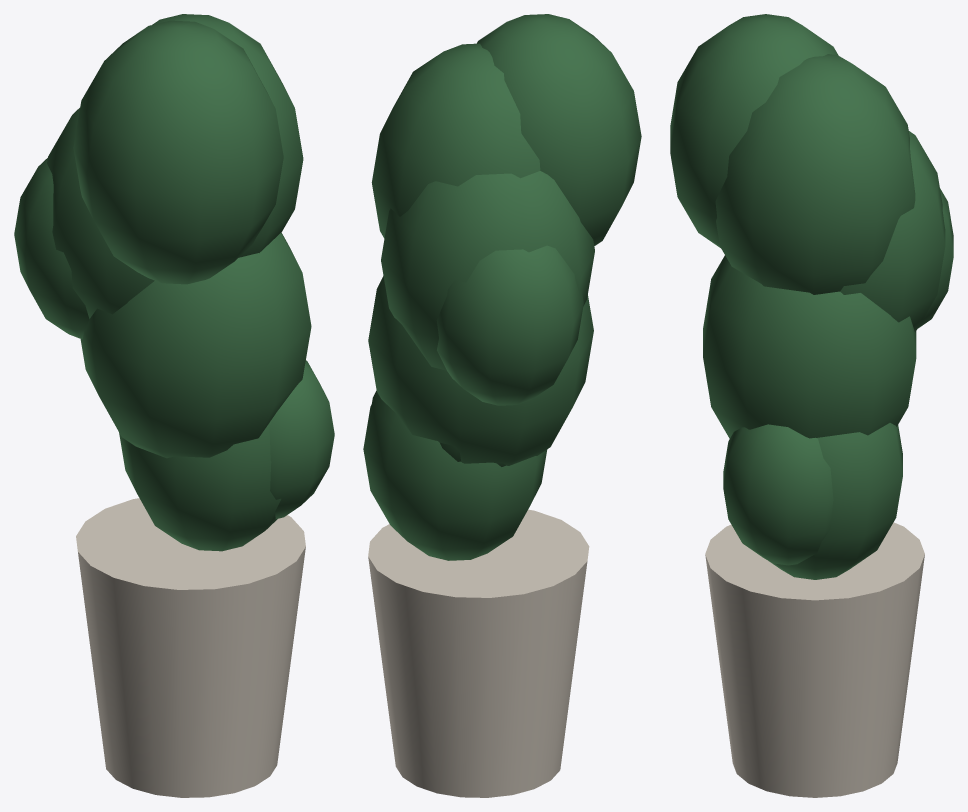
Rendered from Plant_4.glb.
The picture shows the model from 3 angles, left to right: view 1: azimuth 30°, elevation 25°; view 2: azimuth 150°, elevation 25°; view 3: azimuth 270°, elevation 25°; orthographic projection. The views are drawn at different scales.
Visible parts, largest first — view 1: Plant_4_Foliage, Plant_4_Planter; view 2: Plant_4_Foliage, Plant_4_Planter; view 3: Plant_4_Foliage, Plant_4_Planter.
Boxes of the visible parts, left/top/right/bottom form: Plant_4_Foliage: left=14, top=14, right=334, bottom=551; Plant_4_Planter: left=76, top=498, right=305, bottom=797; Plant_4_Foliage: left=363, top=14, right=641, bottom=560; Plant_4_Planter: left=368, top=509, right=589, bottom=797; Plant_4_Foliage: left=670, top=14, right=953, bottom=579; Plant_4_Planter: left=705, top=522, right=924, bottom=797.
Size of the model in its own units: 0.5051 by 1.45 by 0.5159.
